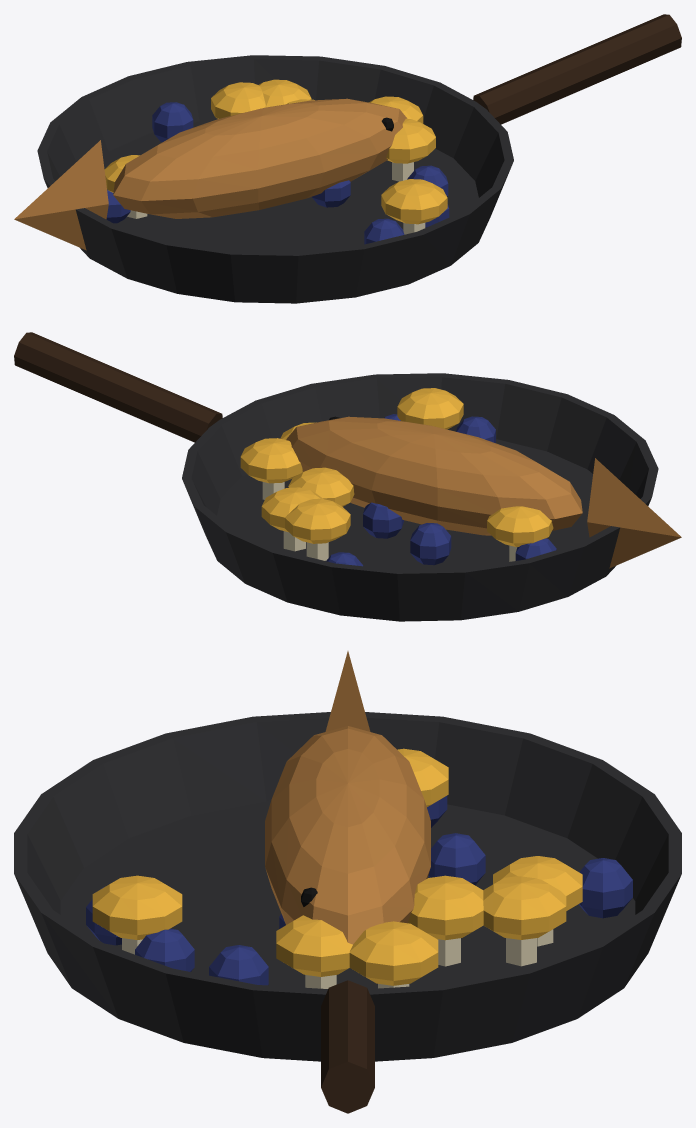
File: VFP_Food_ForestFishPan.obj
The picture shows the model from 3 angles, top to bottom: view 1: azimuth 30°, elevation 25°; view 2: azimuth 150°, elevation 25°; view 3: azimuth 270°, elevation 25°; orthographic projection. The views are drawn at different scales.
Visible parts, largest first — view 1: Pan, Fish, Pan_wood_dark, Mush_mush_yellow, Berries, Mush; view 2: Pan, Fish, Mush_mush_yellow, Pan_wood_dark, Berries, Mush; view 3: Pan, Fish, Mush_mush_yellow, Berries, Pan_wood_dark, Mush.
Boxes of the visible parts, x1,y1,x2,y2 form: Pan: (37, 55, 513, 303); Fish: (14, 98, 407, 250); Pan_wood_dark: (473, 14, 681, 124); Mush_mush_yellow: (104, 79, 447, 224); Berries: (106, 102, 449, 244); Mush: (127, 162, 425, 234); Pan: (182, 373, 658, 621); Fish: (286, 416, 681, 568); Mush_mush_yellow: (240, 388, 553, 546); Pan_wood_dark: (14, 332, 222, 442); Berries: (326, 414, 556, 566); Mush: (262, 482, 517, 561); Pan: (14, 712, 681, 1061); Fish: (265, 651, 430, 944); Mush_mush_yellow: (92, 748, 582, 985); Berries: (86, 795, 632, 985); Pan_wood_dark: (321, 980, 374, 1113); Mush: (122, 929, 553, 988).
Bounding box in the file's own units: 0.48 × 0.081 × 0.297.
